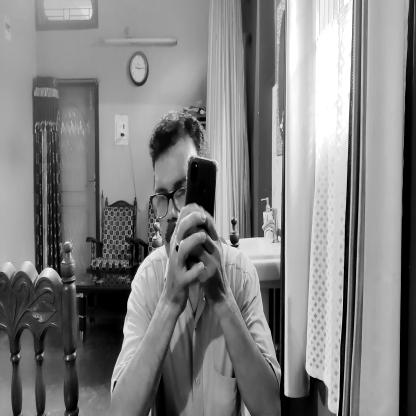Distracted: (147, 109, 211, 285)
